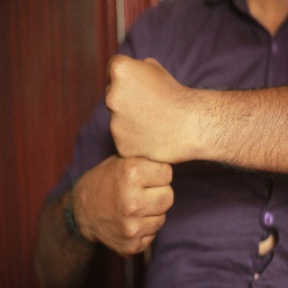G: (78, 47, 189, 257)
